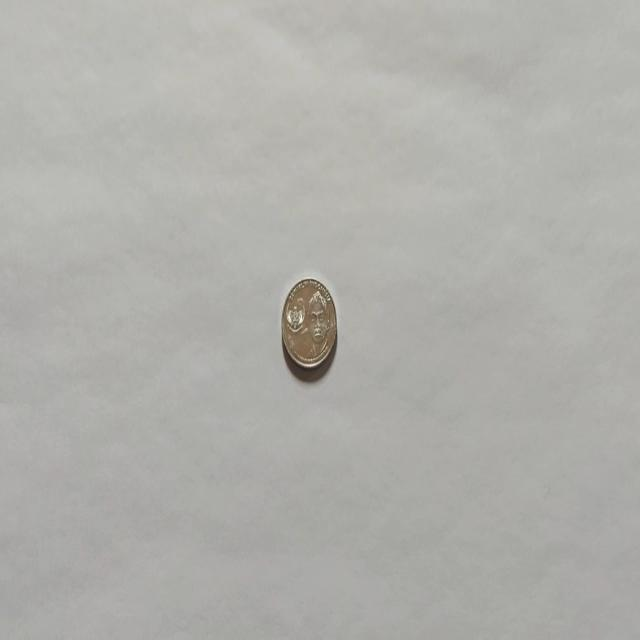dua ratus rupiah: (280, 276, 338, 370)
